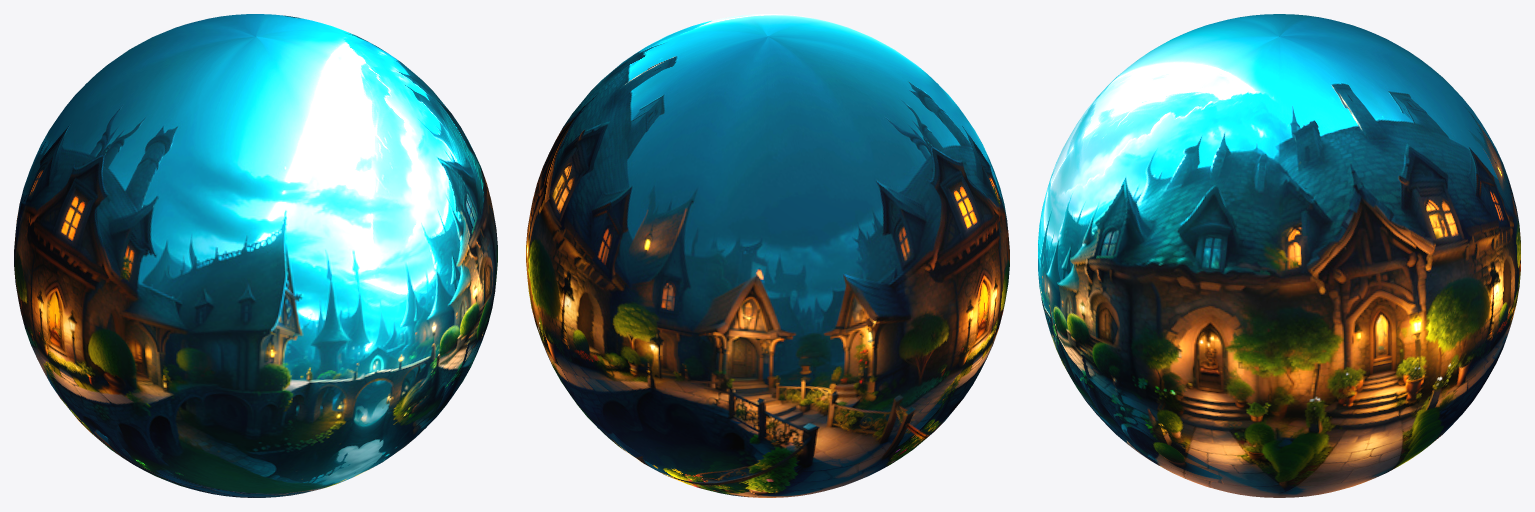
File: fairytale_garden_2.glb
3 renders of one model, left to right at view 1: azimuth 30°, elevation 25°; view 2: azimuth 150°, elevation 25°; view 3: azimuth 270°, elevation 25°, orthographic.
Parts seen in each view (by area): view 1: Fairytale_Garden; view 2: Fairytale_Garden; view 3: Fairytale_Garden.
Boxes of the visible parts, box(x1,y1,x2,y2) form: Fairytale_Garden: box(14, 14, 497, 497); Fairytale_Garden: box(526, 14, 1009, 497); Fairytale_Garden: box(1038, 14, 1520, 497).
Bounding box in the file's own units: 0.2478 × 0.248 × 0.2473.
Materials: 1 (1 with a texture image).
